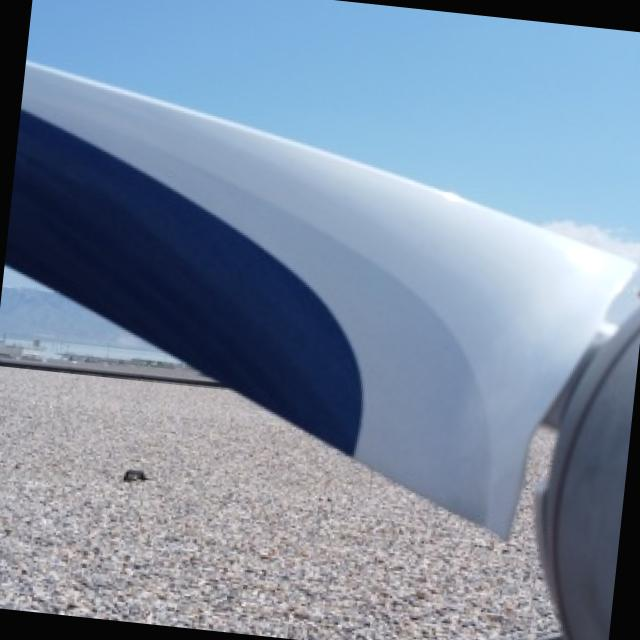healthy: (7, 62, 640, 640)
